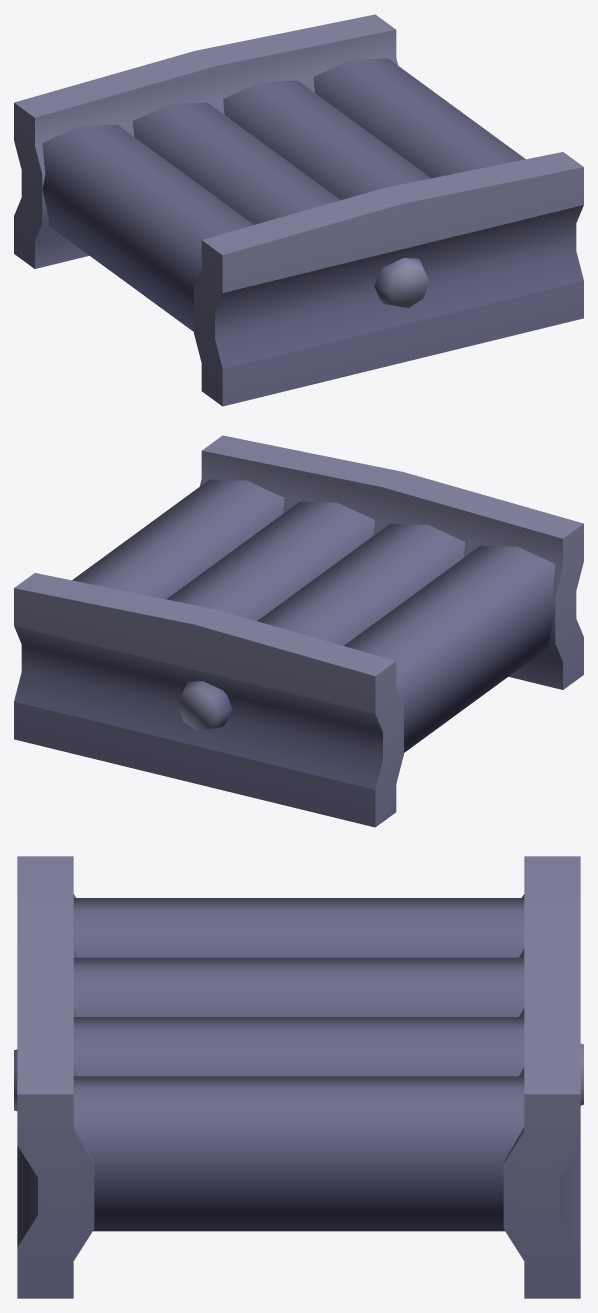
Rendered from conveyor-bars-high.glb.
3 views of the same model, one above another, from view 1: azimuth 30°, elevation 25°; view 2: azimuth 150°, elevation 25°; view 3: azimuth 270°, elevation 25° (orthographic). The views are drawn at different scales.
Parts seen in each view (by area): view 1: conveyor-bars-high; view 2: conveyor-bars-high; view 3: conveyor-bars-high.
Part boxes in pixels (left/top/right/bottom): conveyor-bars-high: left=14, top=14, right=583, bottom=406; conveyor-bars-high: left=14, top=435, right=583, bottom=827; conveyor-bars-high: left=14, top=856, right=583, bottom=1298.
Bounding box in the file's own units: 1 × 0.42 × 1.01.
